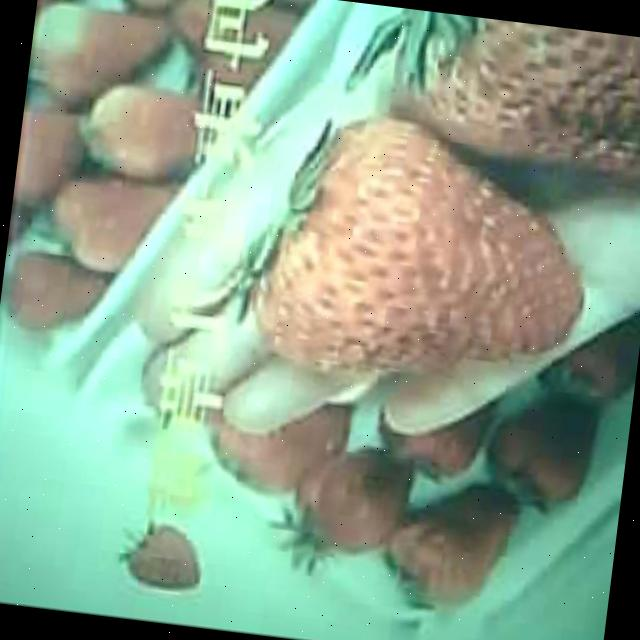strawberry: (247, 105, 598, 397)
